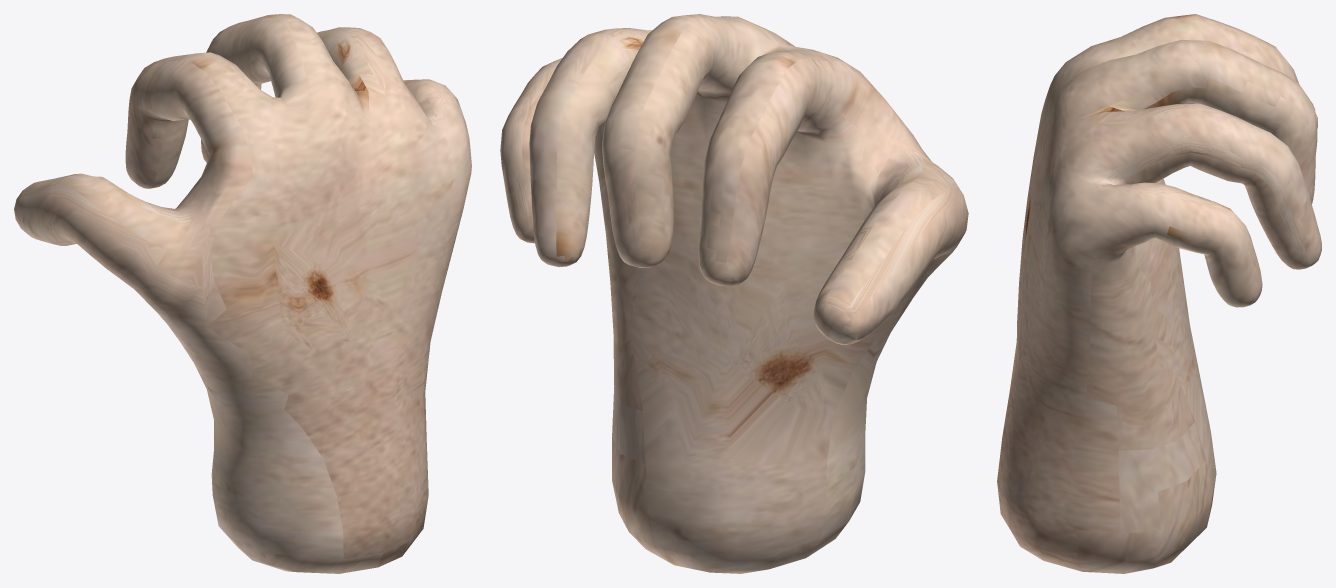
File: hand20.obj
The picture shows the model from 3 angles, left to right: view 1: azimuth 30°, elevation 25°; view 2: azimuth 150°, elevation 25°; view 3: azimuth 270°, elevation 25°; orthographic projection. The views are drawn at different scales.
Visible parts, largest first — view 1: Cube.001; view 2: Cube.001; view 3: Cube.001.
Part boxes in pixels (bbox=[...]): Cube.001: bbox=[14, 14, 471, 573]; Cube.001: bbox=[500, 14, 968, 573]; Cube.001: bbox=[997, 14, 1321, 573].
Size of the model in its own units: 3.58 by 4.55 by 2.61.
